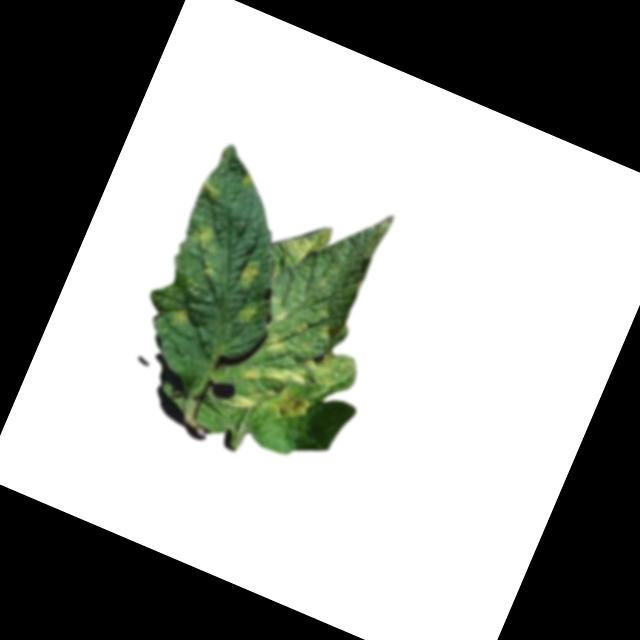Leaf_Mold: (286, 327, 356, 402), (277, 214, 337, 269), (263, 379, 314, 429), (230, 253, 265, 293), (230, 297, 260, 331), (189, 222, 217, 253), (226, 387, 257, 415), (168, 299, 195, 327), (260, 331, 285, 356)
